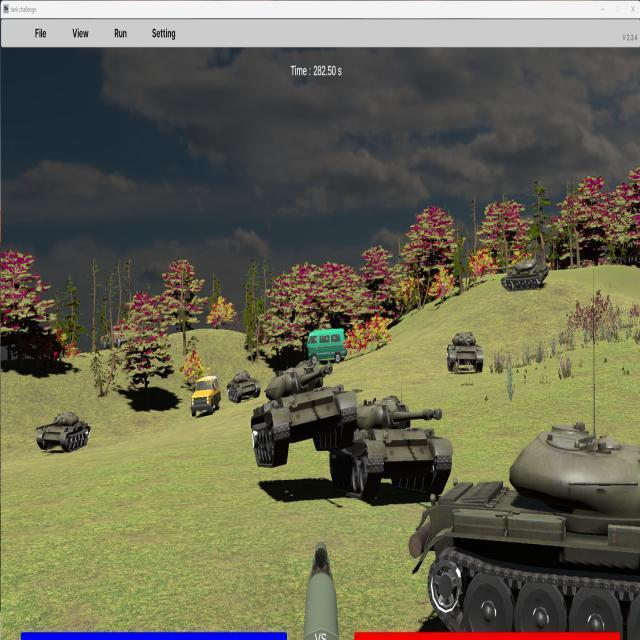Tank: (408, 420, 640, 638), (329, 395, 453, 502), (251, 366, 357, 467), (36, 411, 91, 453), (482, 259, 549, 291), (447, 331, 484, 374), (227, 369, 261, 403)
car: (305, 329, 347, 363), (191, 375, 221, 418)
